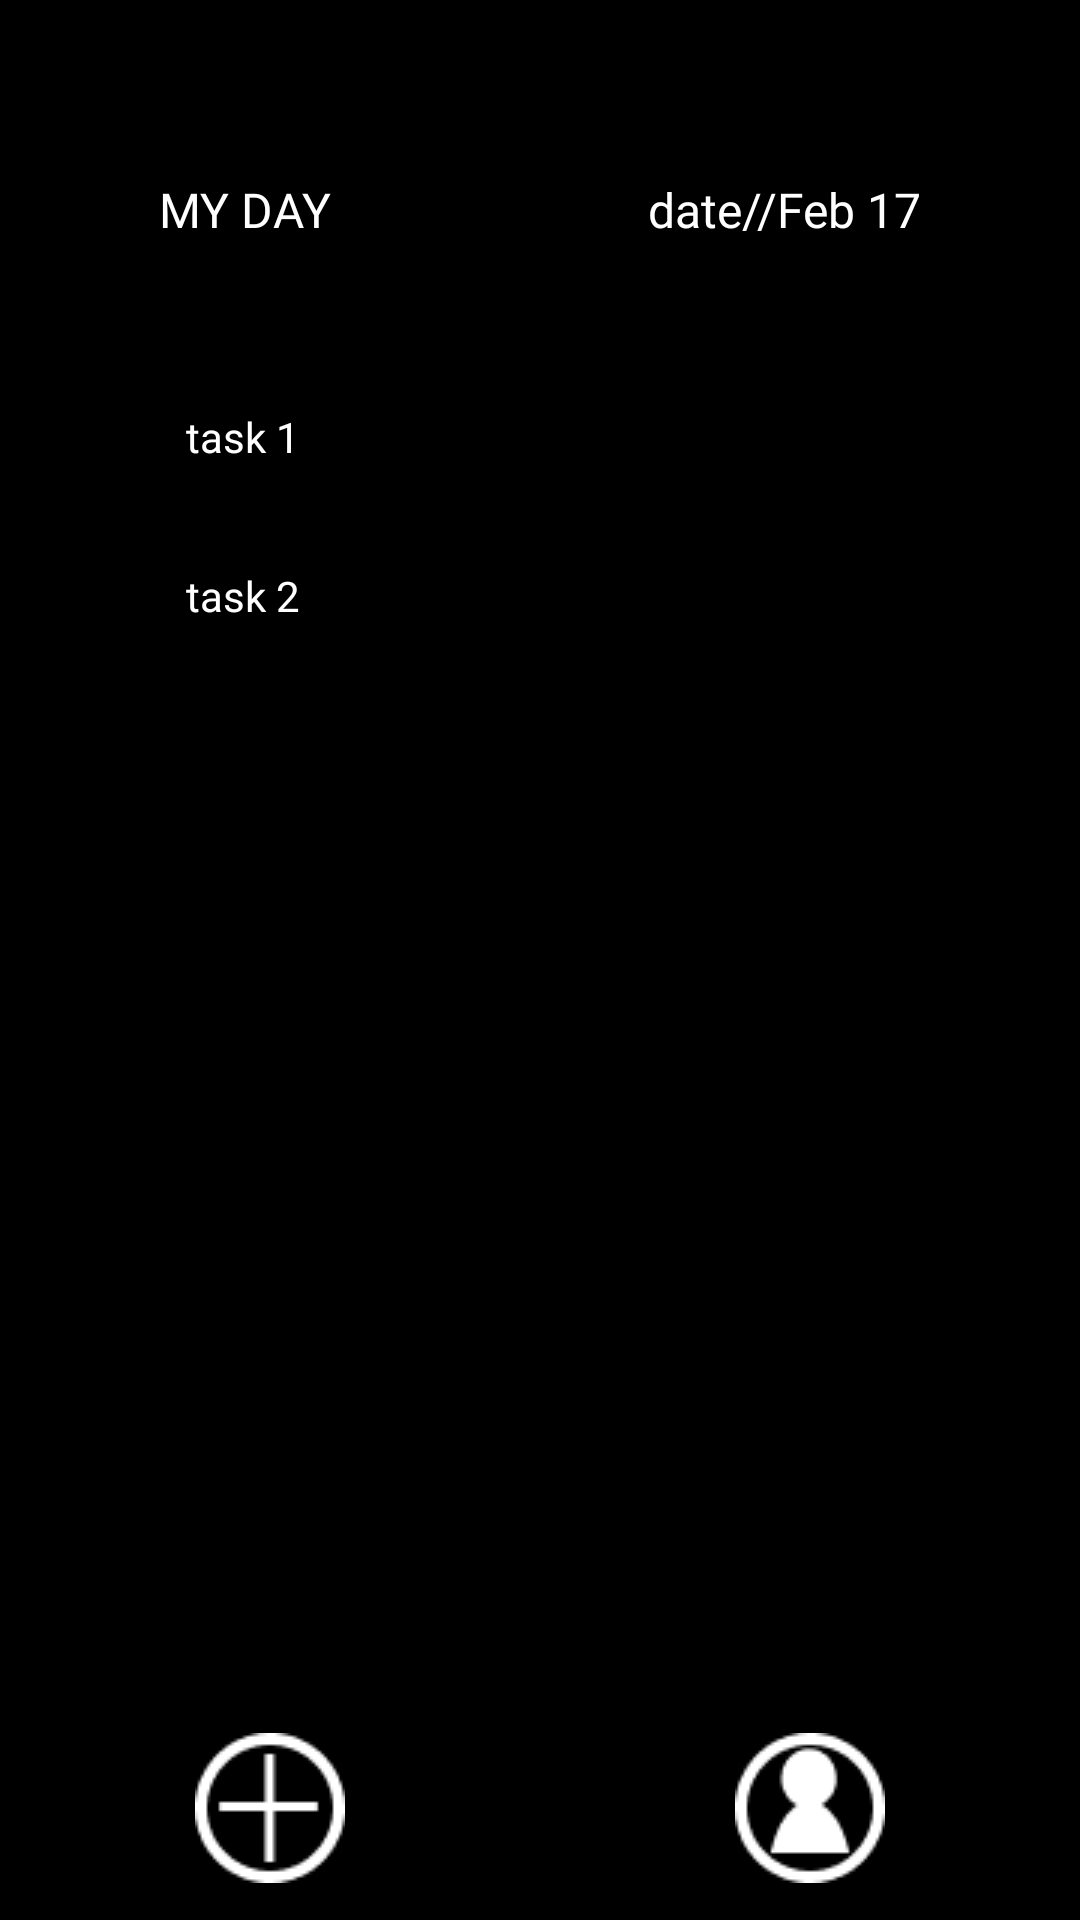

Icon bounding boxes for this 1080px x 1920px phone screenshot, format (x1,y1,x2,y2):
plus: (195,1733,345,1883)
profile: (735,1733,885,1883)
